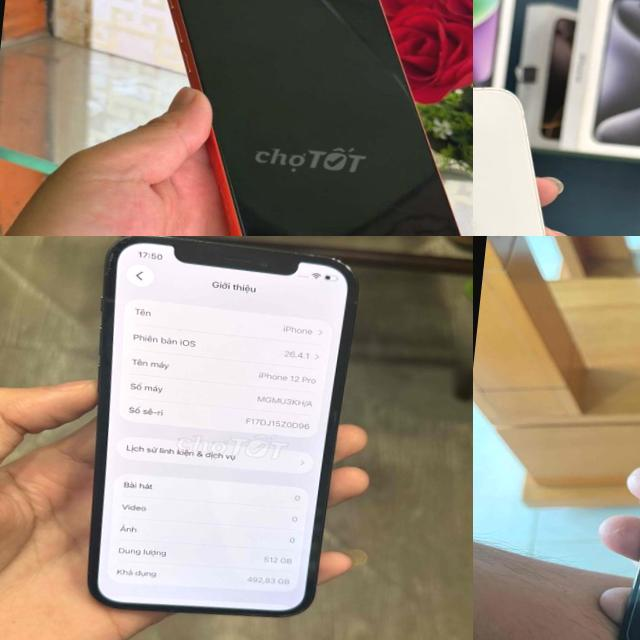gen_12_13: (61, 236, 383, 637), (473, 66, 595, 236)
gen_17: (116, 0, 473, 236)
gen_7_8: (600, 291, 640, 640)
